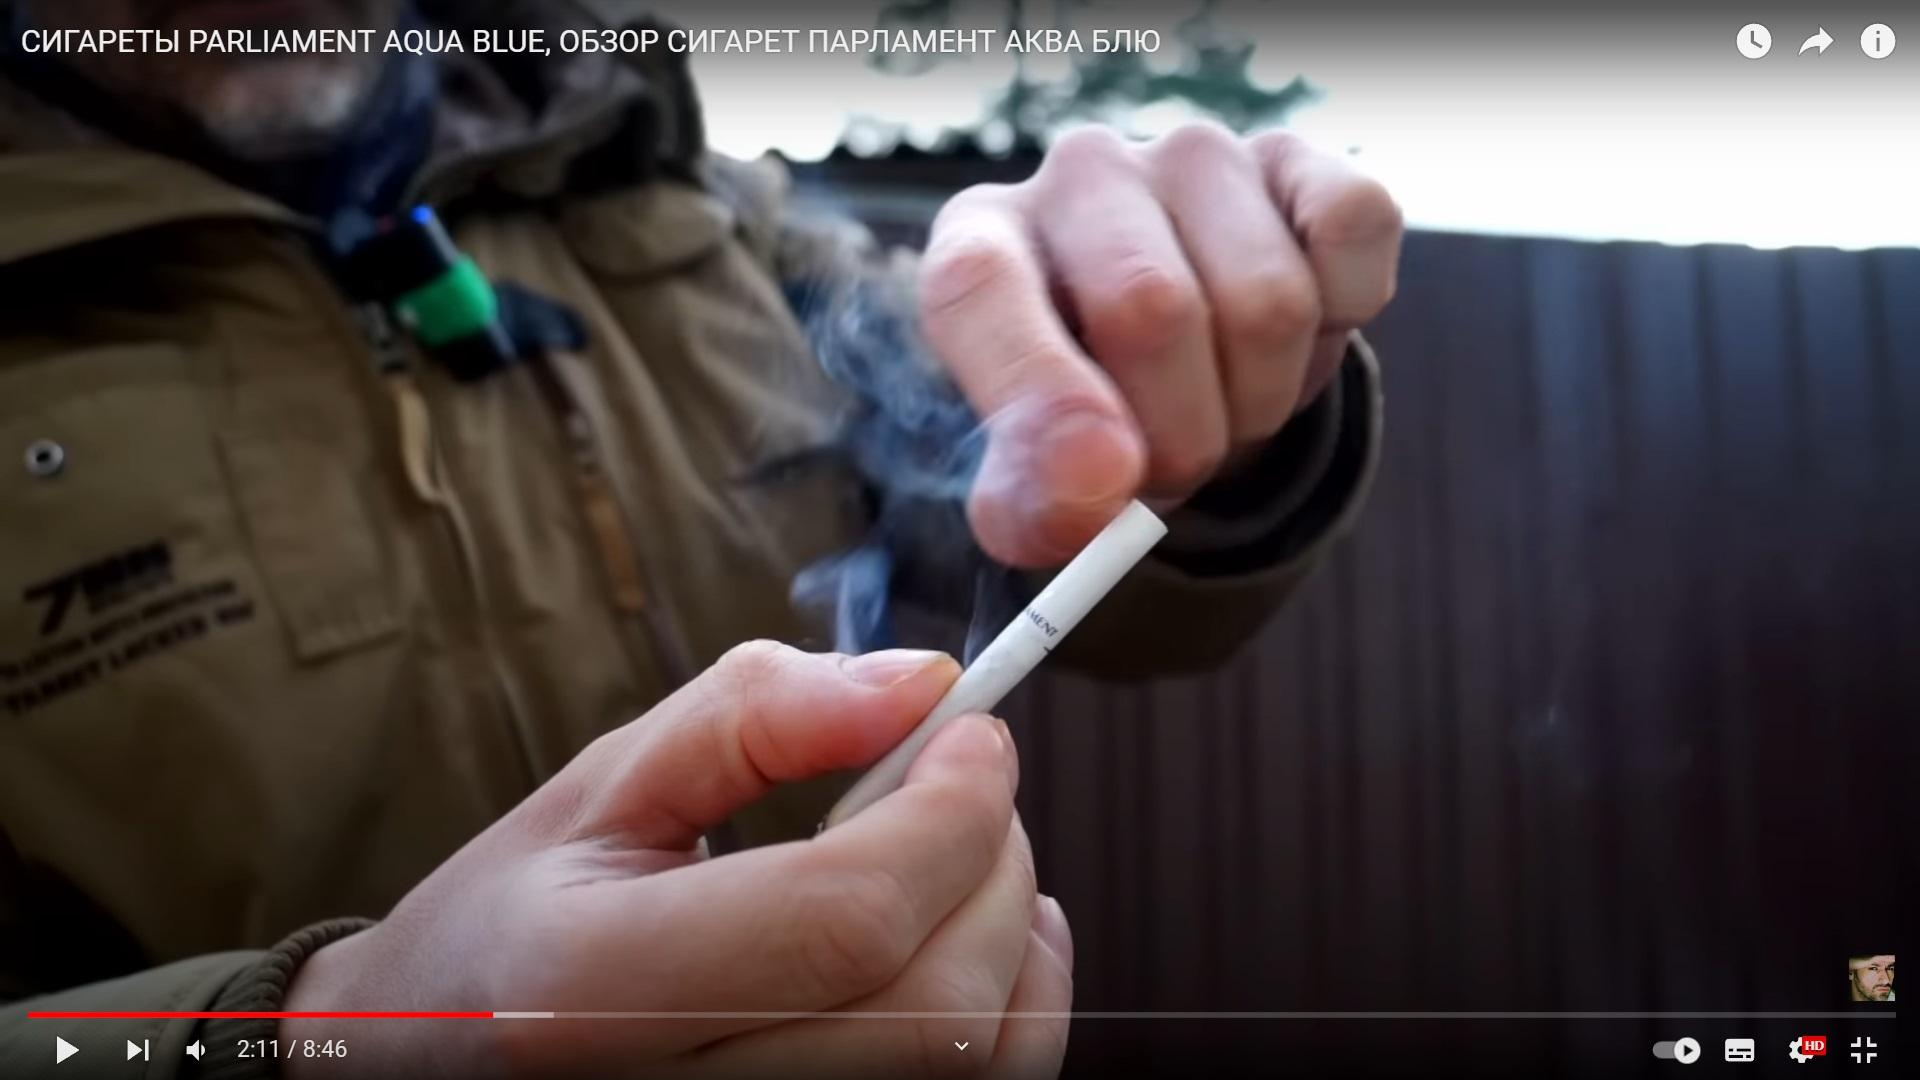cigarette: (825, 498, 1166, 823)
